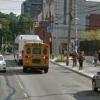buses: (21, 41, 51, 74)
